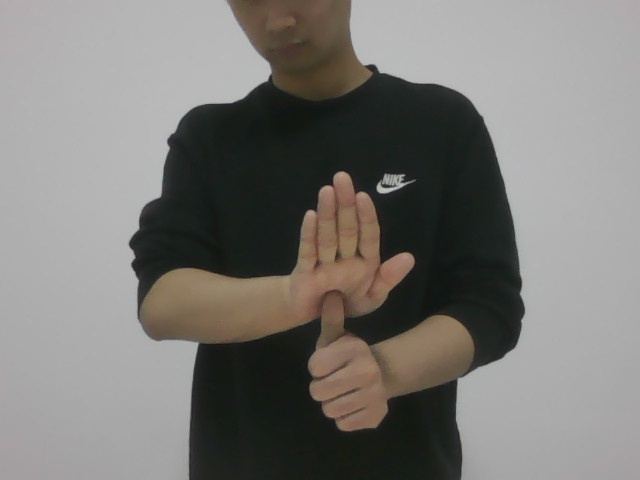love: (291, 171, 423, 440)
